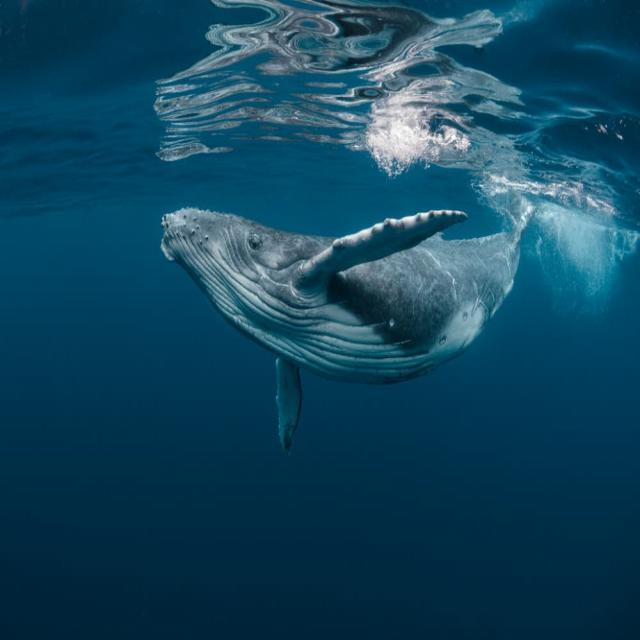blue_whale: (119, 188, 602, 468)
